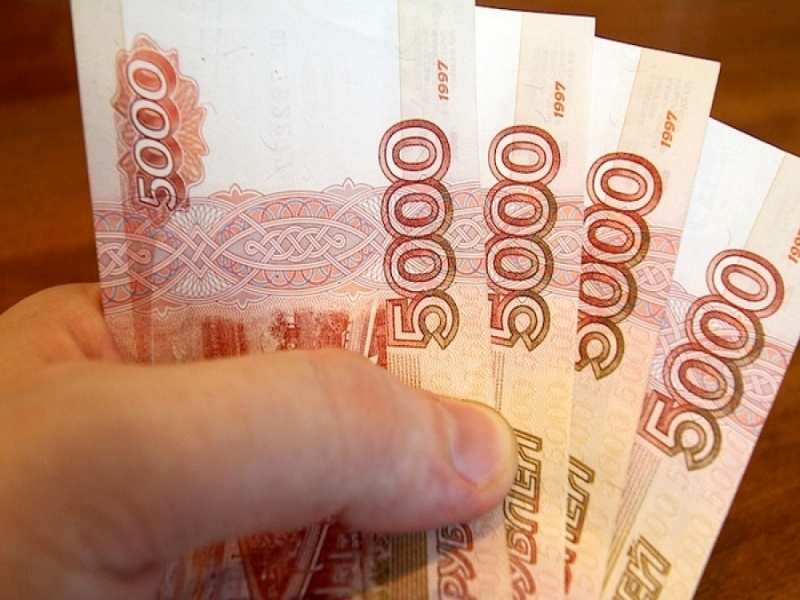cash: (69, 1, 800, 600)
